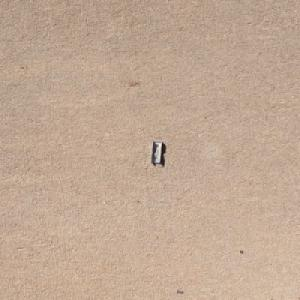ClampPart: (149, 140, 163, 163)
